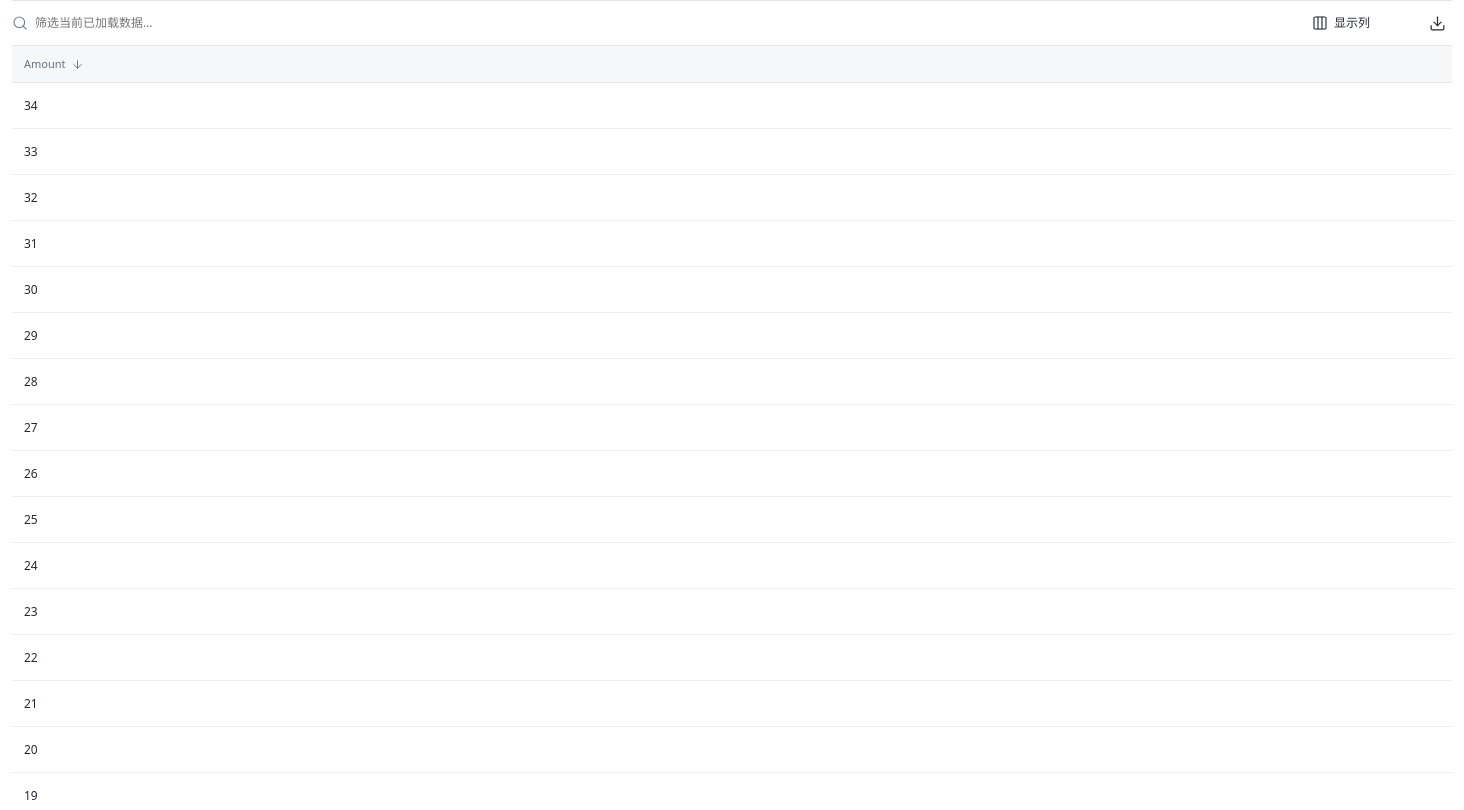
failed writes preserve saved layout and require an explicit reload
This screenshot has width=1464, height=810.
Step 1. Click the button "Amount" → coordinates (45, 63), box x1=24 y1=46 x2=1440 y2=82
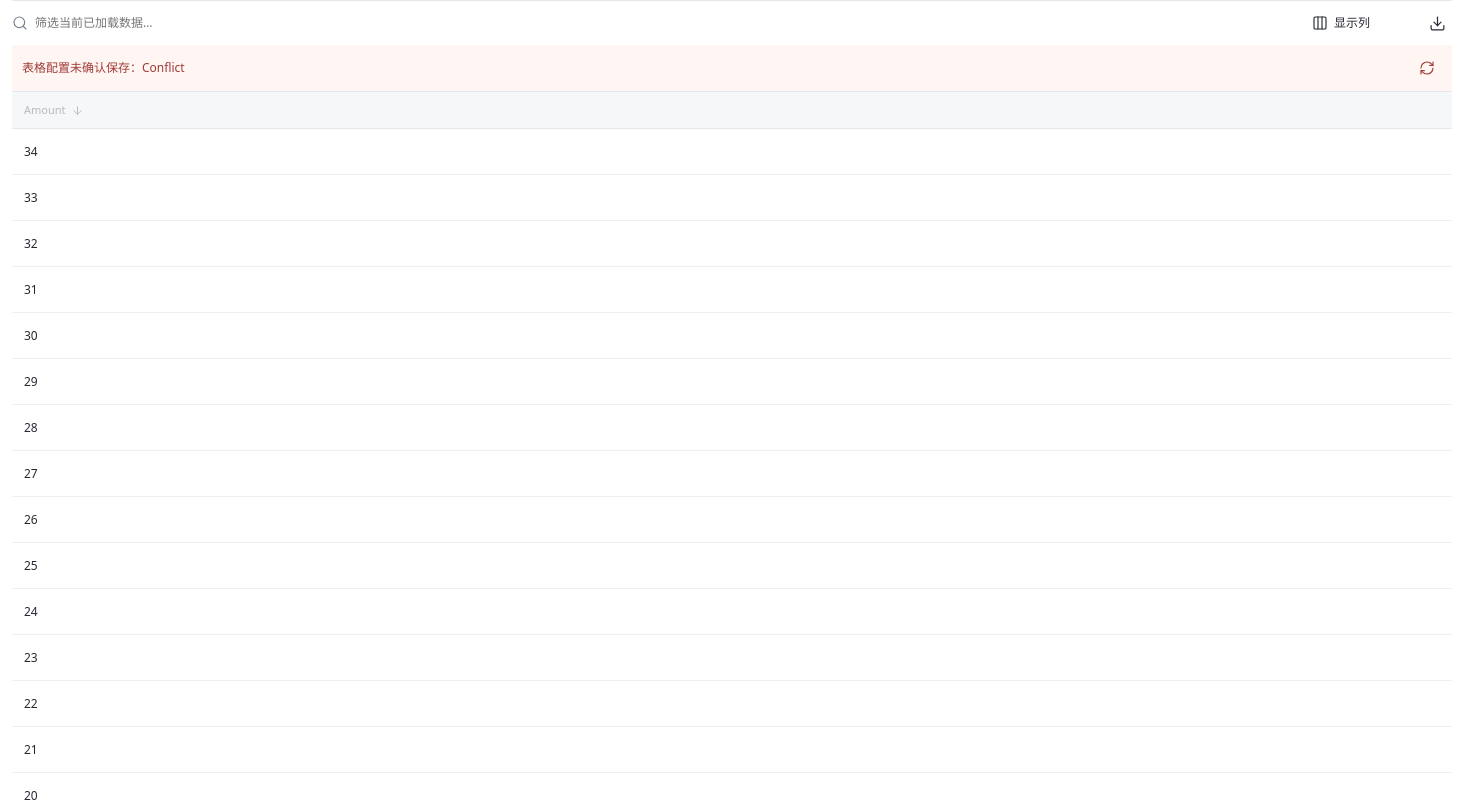
Expected: the row "34" is shown, x1=12 y1=129 x2=1452 y2=175
Expected: the message shows "Conflict", x1=142 y1=59 x2=185 y2=76
Expected: the button "Amount" is disabled, x1=24 y1=92 x2=1440 y2=128
Step 2. Click the button named "重新读取表格配置 test" → coordinates (1427, 68), box x1=1412 y1=53 x2=1442 y2=83
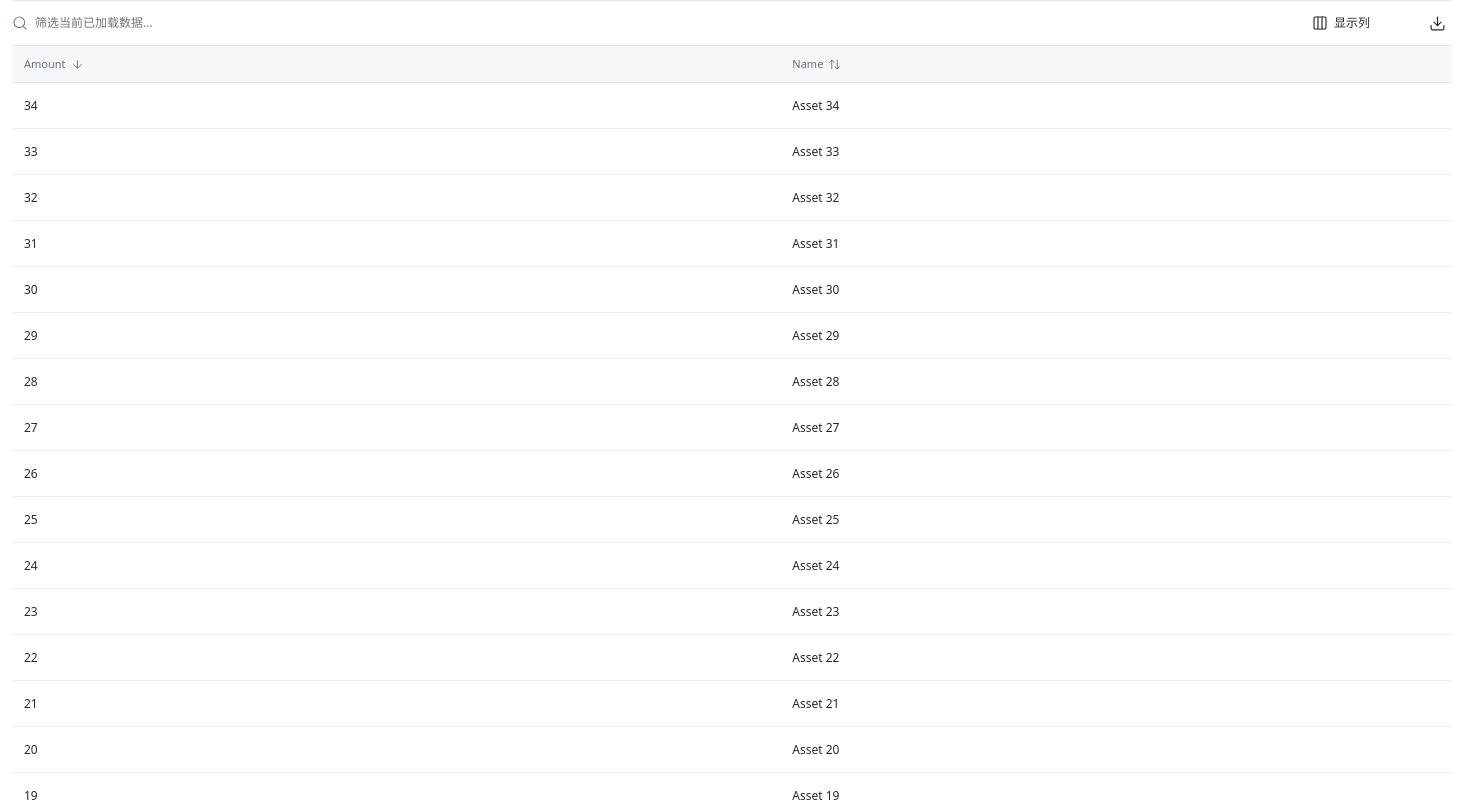
Expected: the column heading "Name" is shown, x1=780 y1=45 x2=1452 y2=83
Expected: the message "表格配置未确认保存：Conflict" is gone
